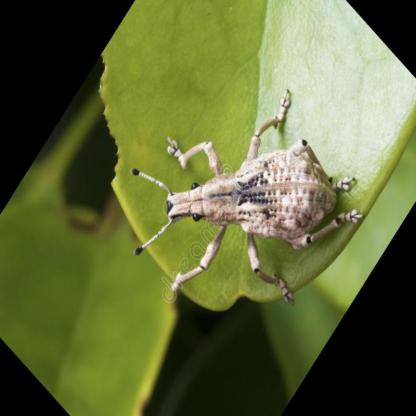ash weevil: (134, 97, 357, 303)
